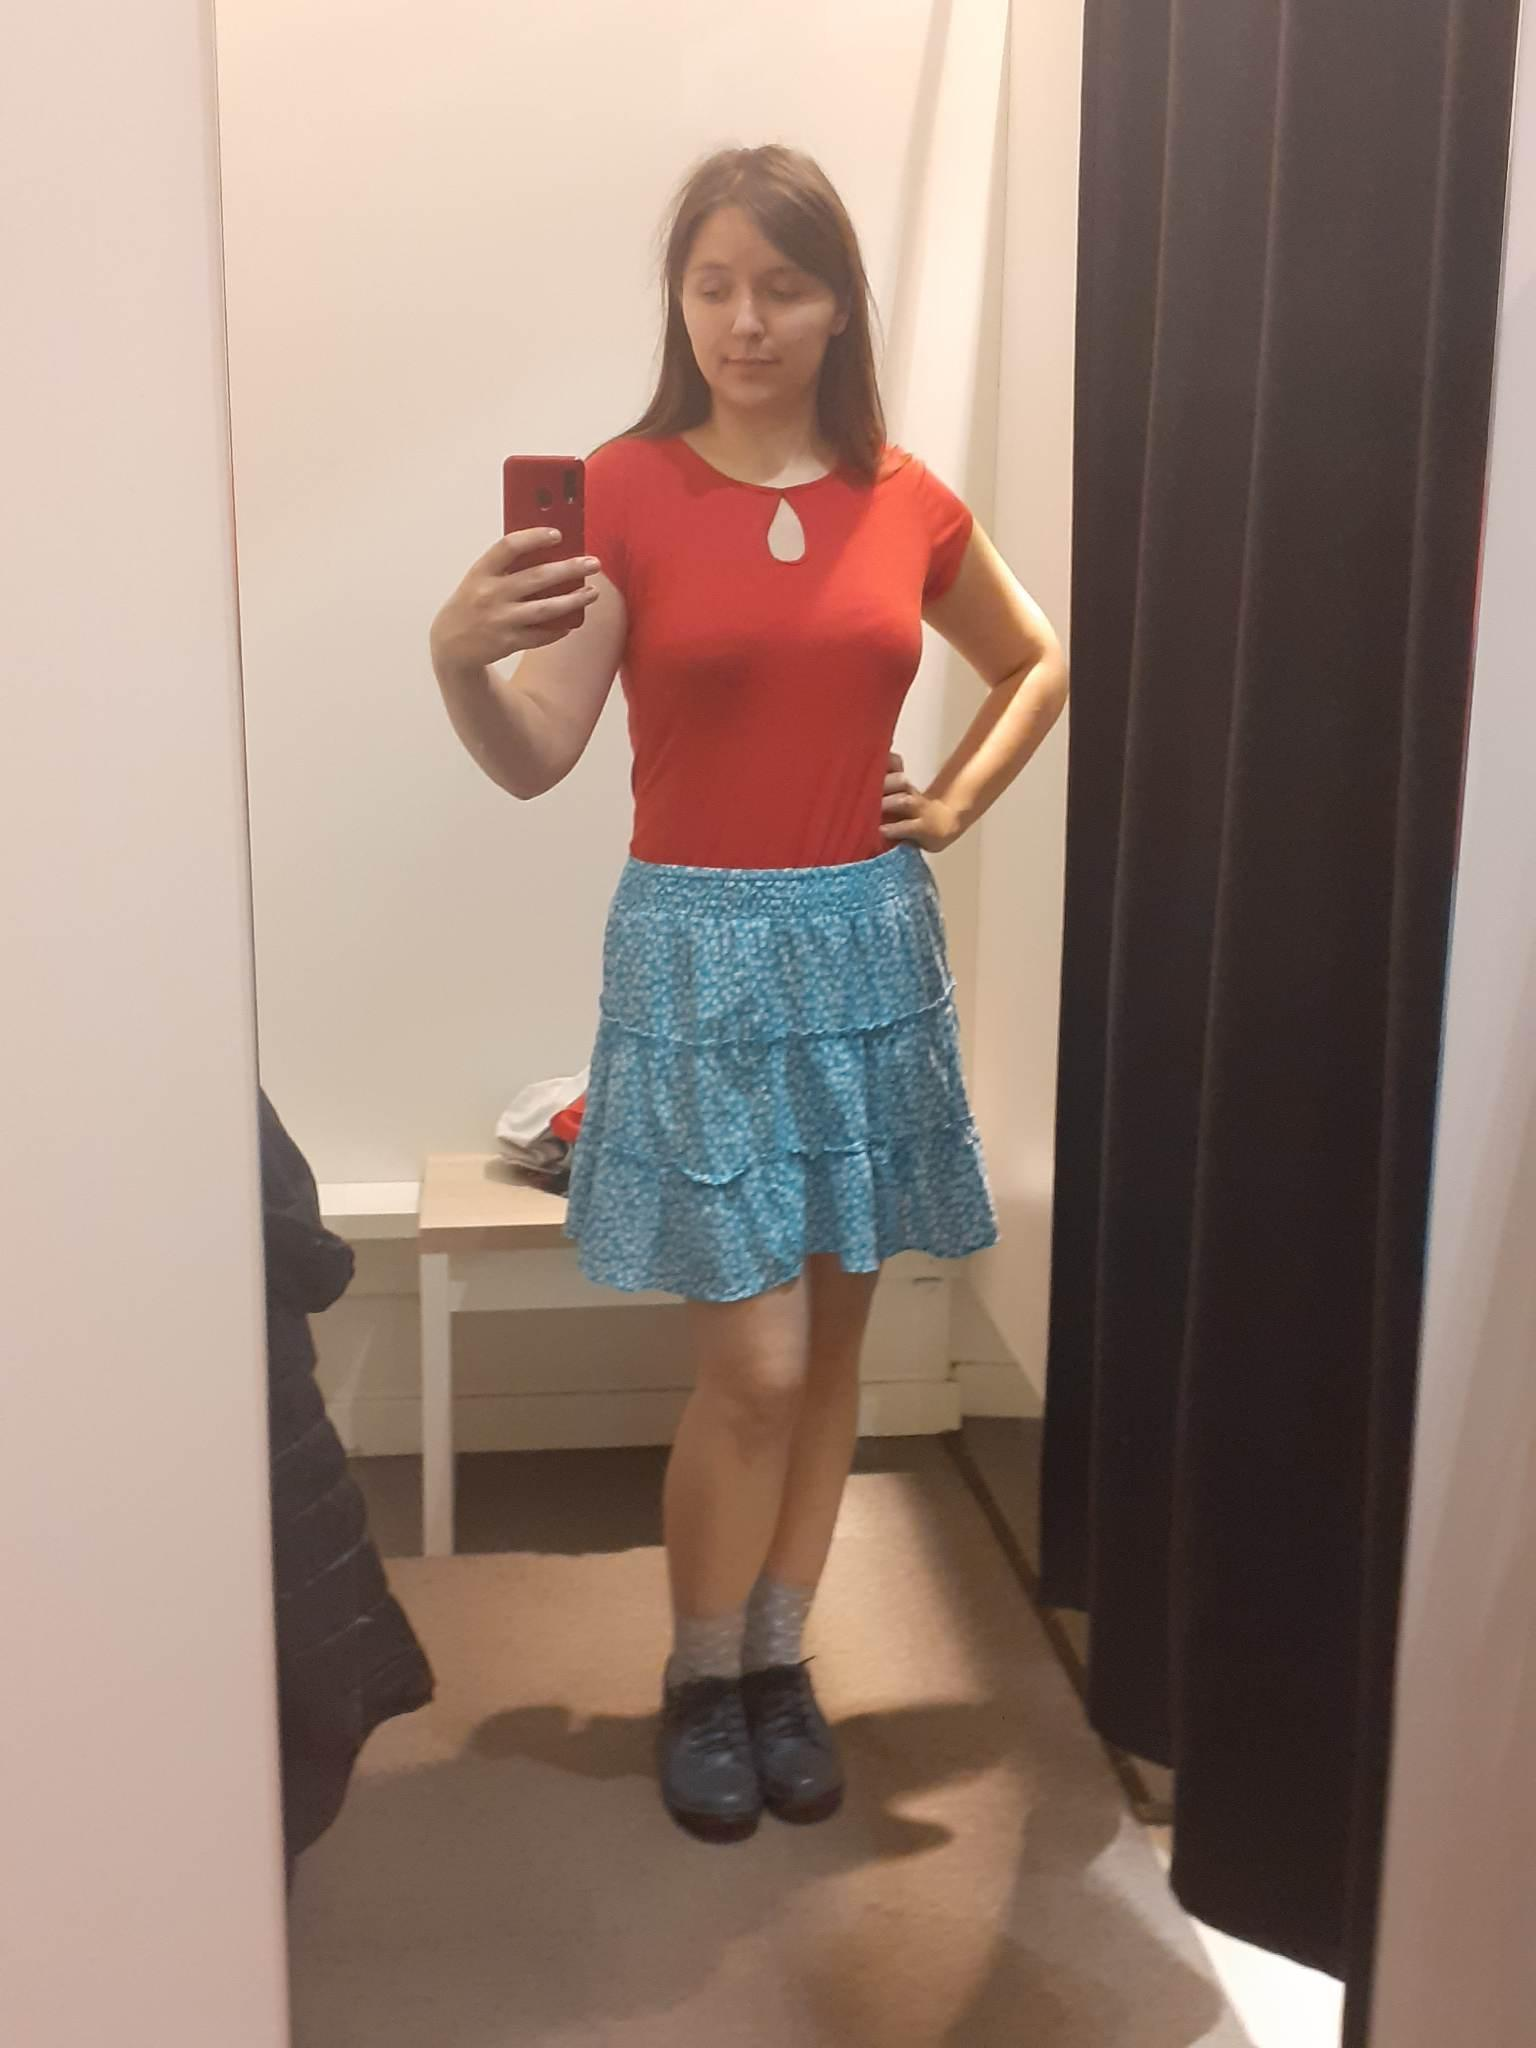Tshirt: (553, 426, 975, 869)
skirt: (566, 843, 1004, 1303)
